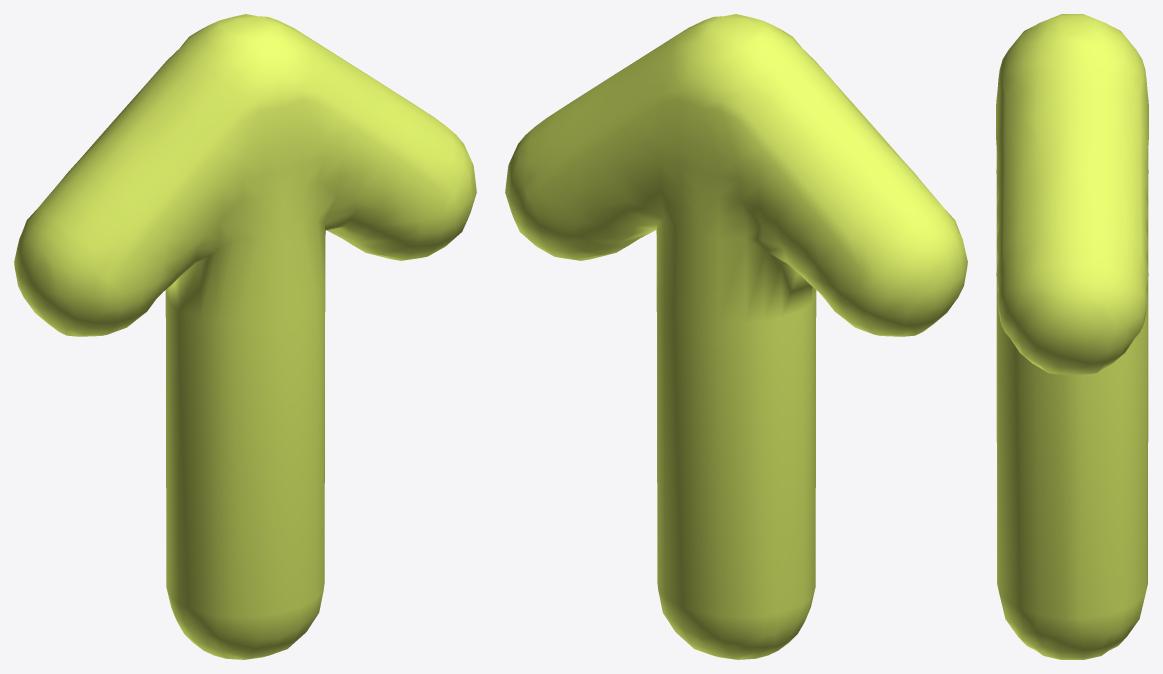
File: ARROW.gltf
3 renders of one model, left to right at view 1: azimuth 30°, elevation 25°; view 2: azimuth 150°, elevation 25°; view 3: azimuth 270°, elevation 25°, orthographic.
Parts seen in each view (by area): view 1: arrow; view 2: arrow; view 3: arrow.
Part boxes in pixels (x1,y1,x2,y2): arrow: [14, 14, 476, 659]; arrow: [505, 14, 967, 659]; arrow: [996, 14, 1148, 659].
Bounding box in the file's own units: 2.24 × 3.05 × 0.6736.
